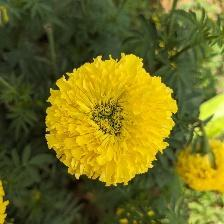marigold: (44, 53, 181, 189)
